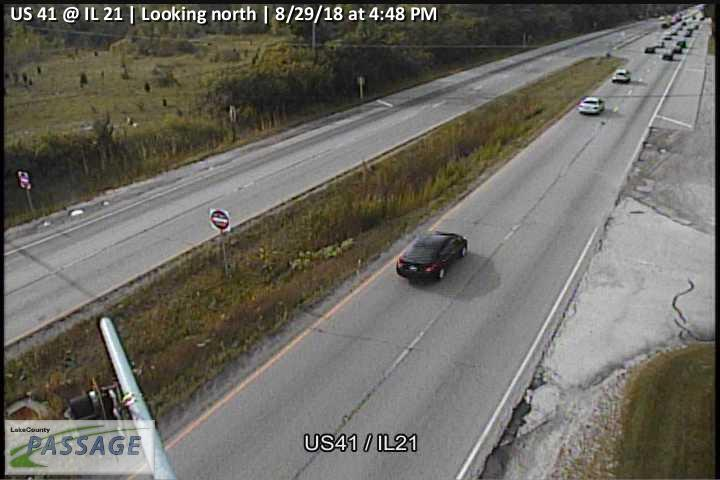SUV: (611, 69, 631, 84)
Sedan: (395, 230, 467, 283), (578, 96, 605, 114)
